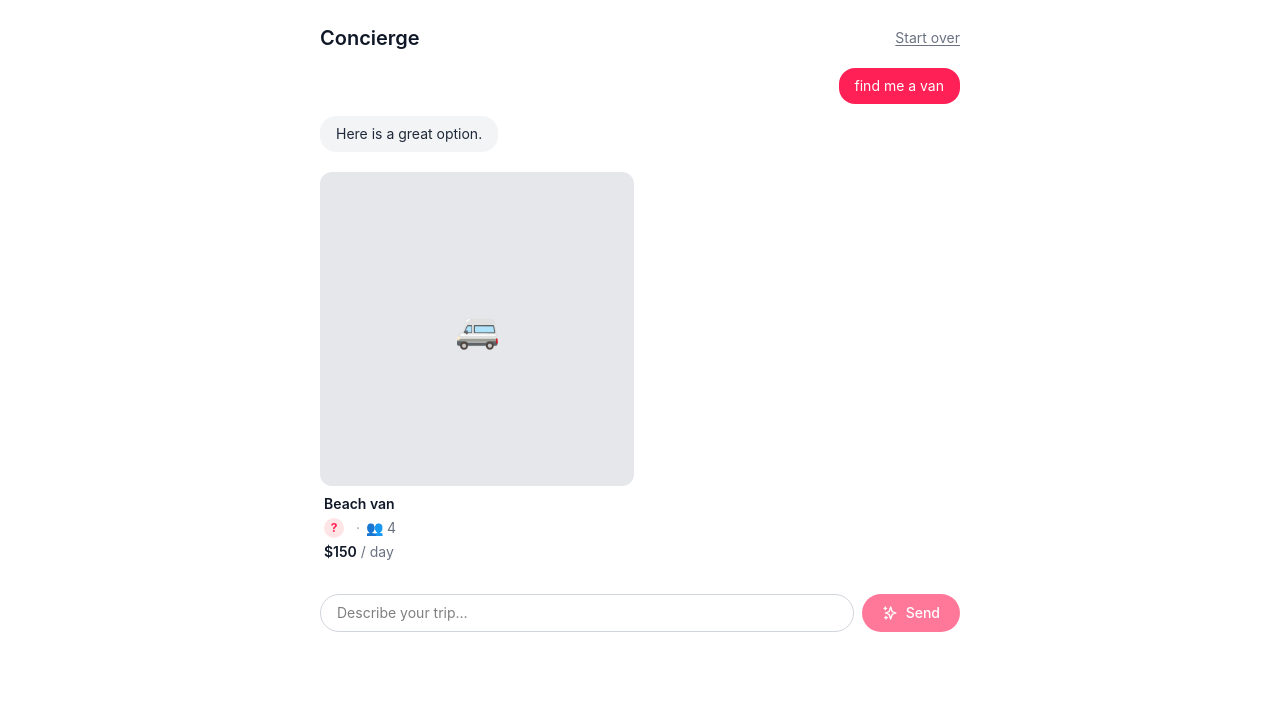
Scenario: keeps the conversation when Start over is cancelled
Expected: the text "Here is a great option." is shown, [320,116,498,152]
Click the button "Start over". click: {"x": 928, "y": 38}
box: [895,28,960,48]
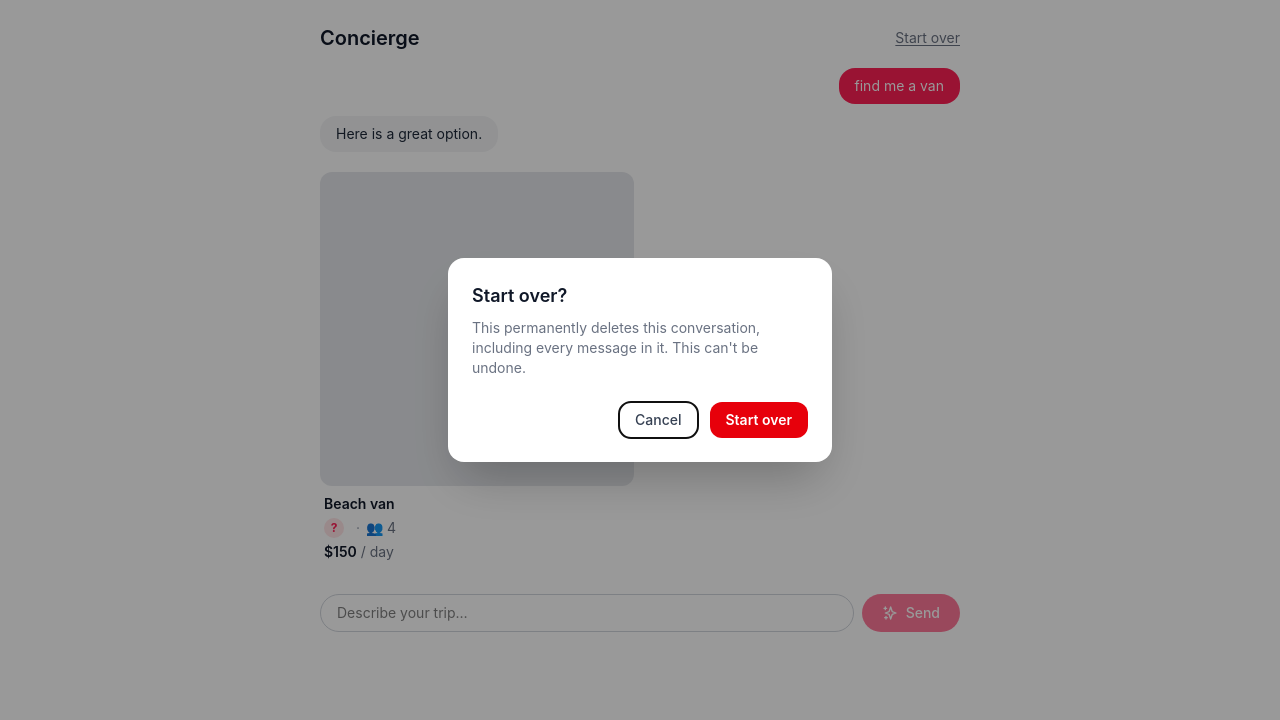
Click the button "Cancel". click: {"x": 658, "y": 420}
box: [619,402,698,438]
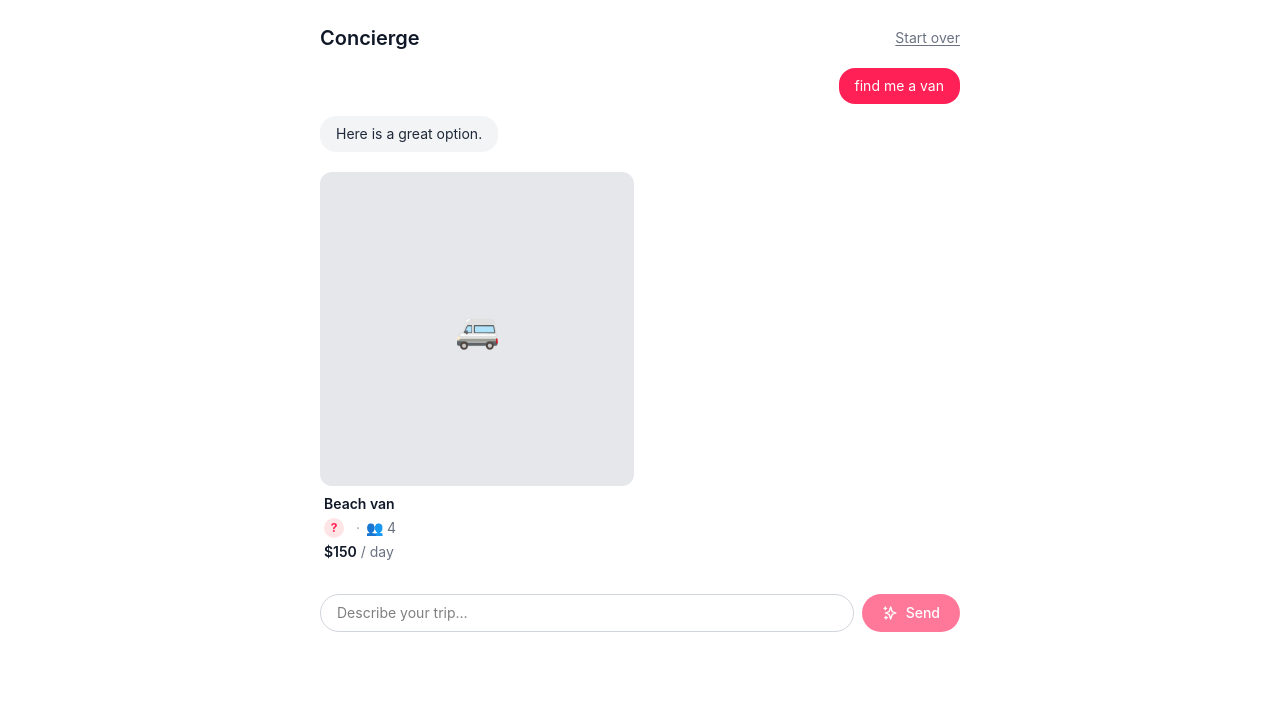
Expected: the text "Here is a great option." is shown, [320,116,498,152]
Result: the dialog is gone
